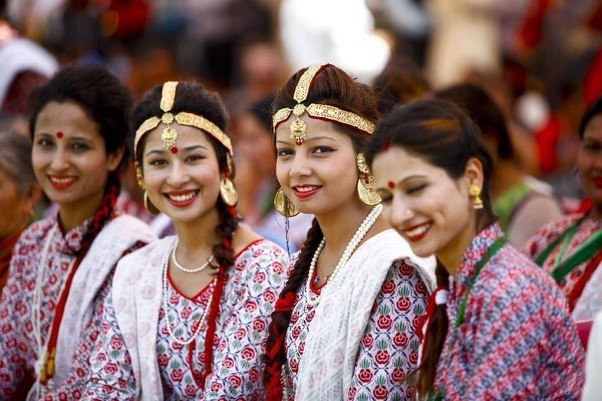human: (348, 89, 602, 401), (76, 77, 299, 401), (270, 56, 432, 401), (1, 58, 144, 401)
